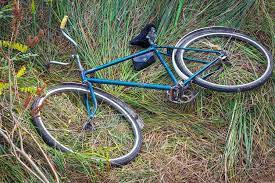bicycle: (32, 14, 272, 166)
